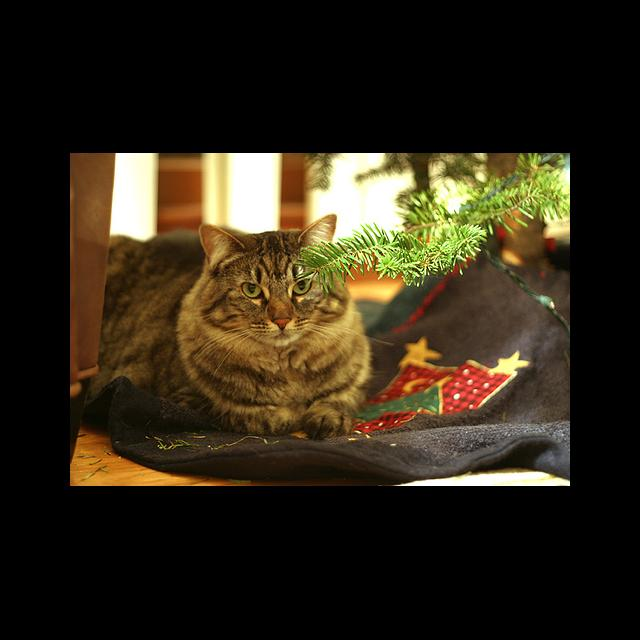animals: (202, 215, 335, 328)
